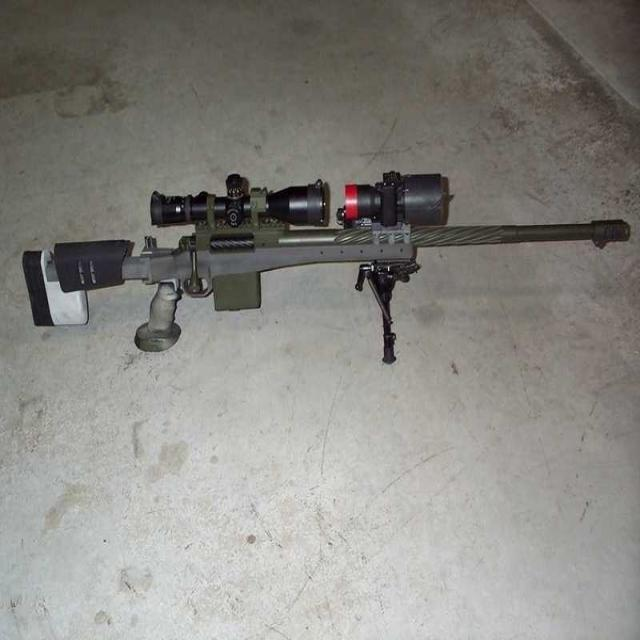heavyweapon: (27, 137, 637, 409)
